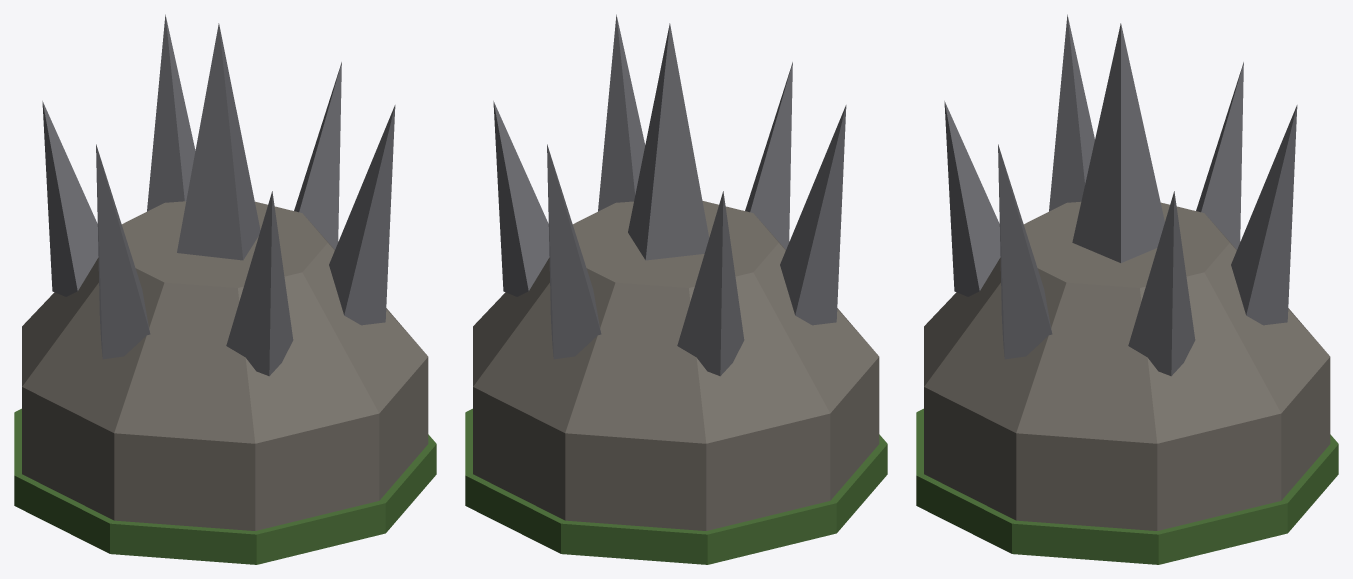
The model's file is BossShell.obj.
3 views of the same model, side by side, from view 1: azimuth 30°, elevation 25°; view 2: azimuth 150°, elevation 25°; view 3: azimuth 270°, elevation 25° (orthographic).
Visible parts, largest first — view 1: BossShell; view 2: BossShell; view 3: BossShell.
Part boxes in pixels (box(x1,y1,x2,y2)): BossShell: box(14, 14, 436, 564); BossShell: box(465, 14, 887, 564); BossShell: box(916, 14, 1338, 564).
Bounding box in the file's own units: 1.02 × 1.19 × 1.01.
